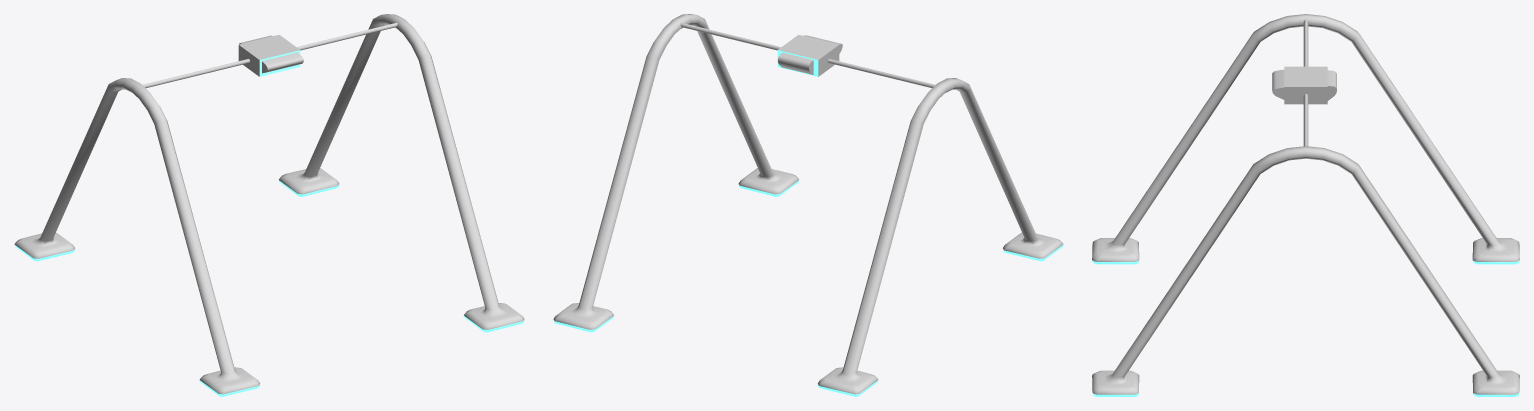
File: Zipline_Stand_Fix.fbx
3 renders of one model, left to right at view 1: azimuth 30°, elevation 25°; view 2: azimuth 150°, elevation 25°; view 3: azimuth 270°, elevation 25°, orthographic. The views are drawn at different scales.
Parts seen in each view (by area): view 1: Cube.003; view 2: Cube.003; view 3: Cube.003.
Part boxes in pixels (bbox=[...]): Cube.003: bbox=[14, 14, 524, 396]; Cube.003: bbox=[553, 14, 1063, 396]; Cube.003: bbox=[1092, 14, 1519, 396].
Bounding box in the file's own units: 233 × 174 × 274.
